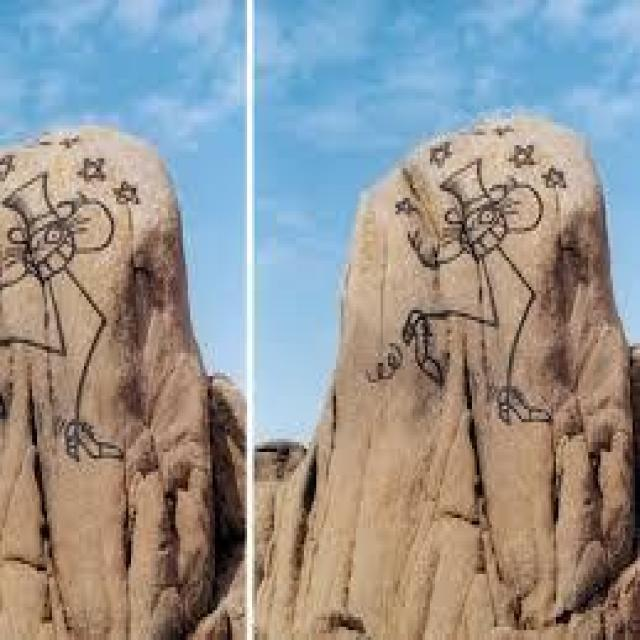nonspitting: (363, 122, 568, 425), (0, 132, 144, 460)
